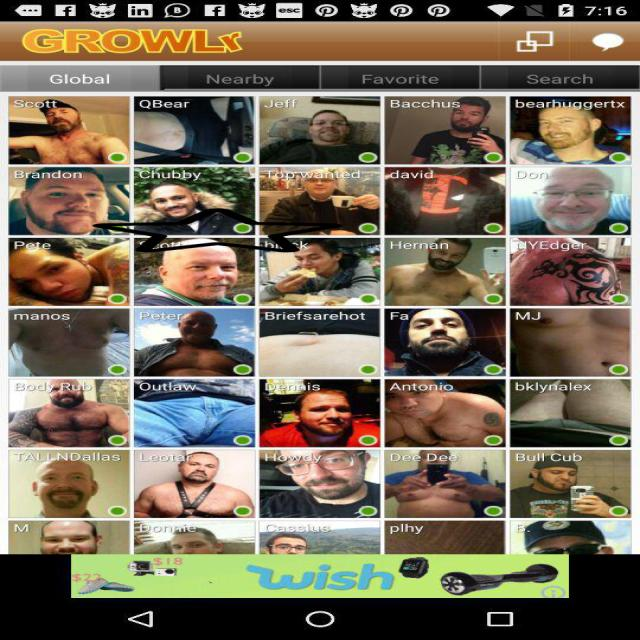forced continuity: (92, 208, 342, 254)
